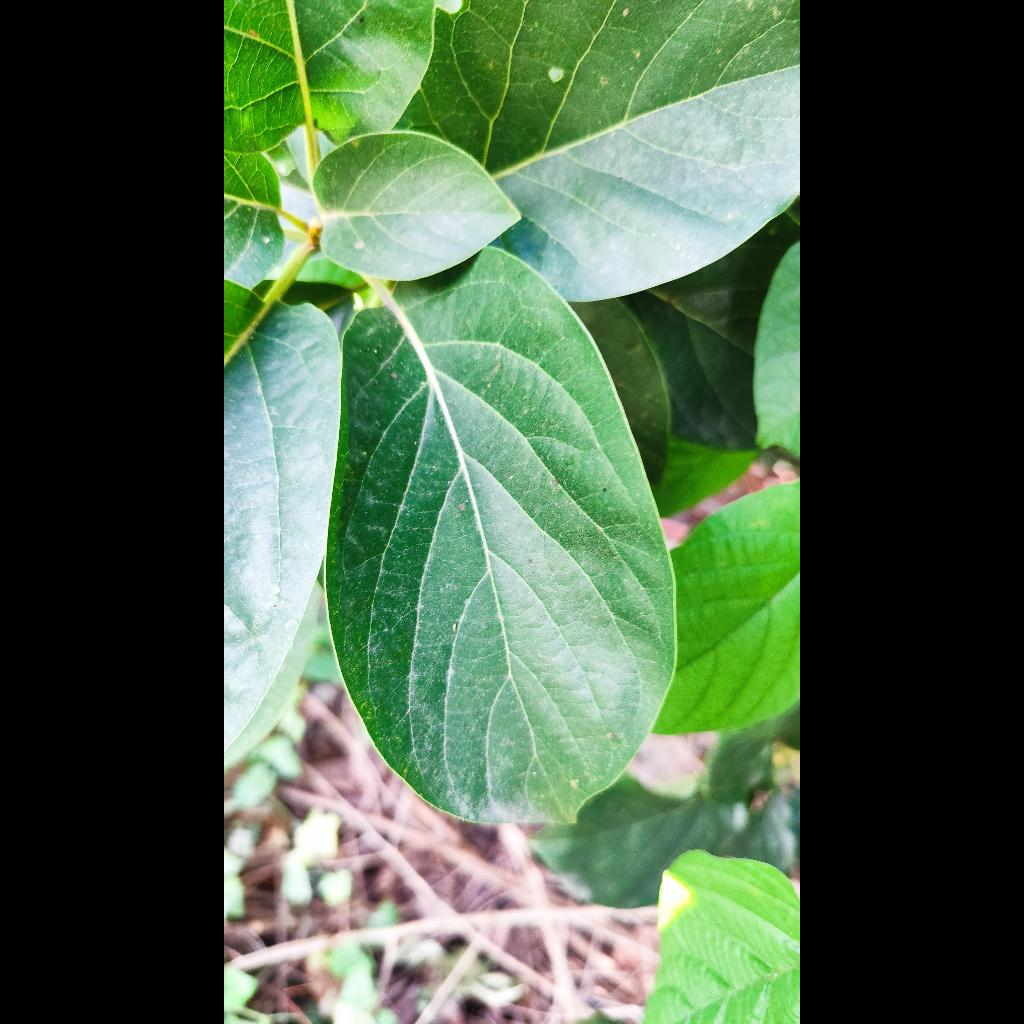hoja_sana: (326, 248, 675, 822), (313, 132, 519, 281)
